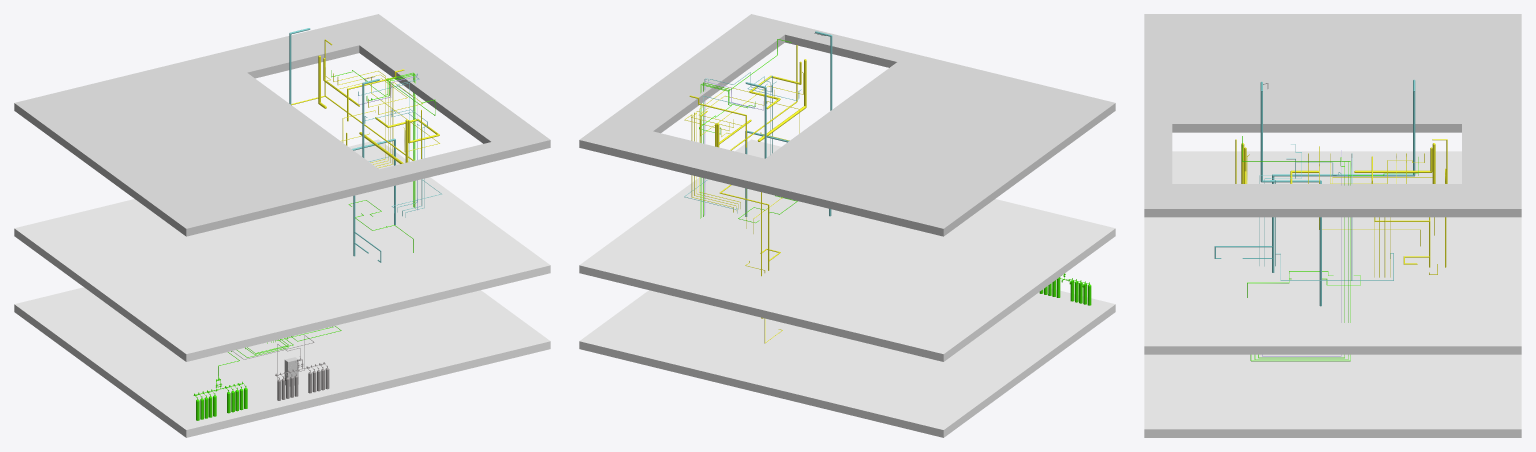
File: modelv20_123.glb
3 views of the same model, side by side, from view 1: azimuth 30°, elevation 25°; view 2: azimuth 150°, elevation 25°; view 3: azimuth 270°, elevation 25° (orthographic). The views are drawn at different scales.
Visible parts, largest first — view 1: Brep.091, Brep.092, Brep, Mesh.9438, Mesh.9443; view 2: Brep.091, Brep.092, Brep, Mesh.9443; view 3: Brep.092, Brep.091, Brep, Brep.015, Brep.086.
Boxes of the visible parts, x1,y1,x2,y2 form: Brep.091: (14,139,550,361); Brep.092: (14,14,550,236); Brep: (14,287,550,437); Mesh.9438: (275,356,329,400); Mesh.9443: (193,376,247,420); Brep.091: (579,139,1115,361); Brep.092: (579,14,1115,236); Brep: (579,288,1115,437); Mesh.9443: (1039,273,1091,305); Brep.092: (1144,14,1521,217); Brep.091: (1144,151,1521,354); Brep: (1144,354,1521,437); Brep.015: (1242,136,1350,361); Brep.086: (1272,174,1413,176).
Size of the model in its own units: 242 by 165 by 198.
